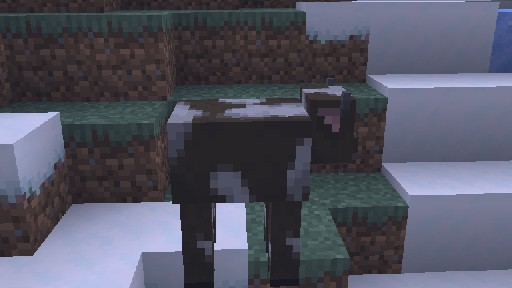cow: (166, 76, 359, 288)
